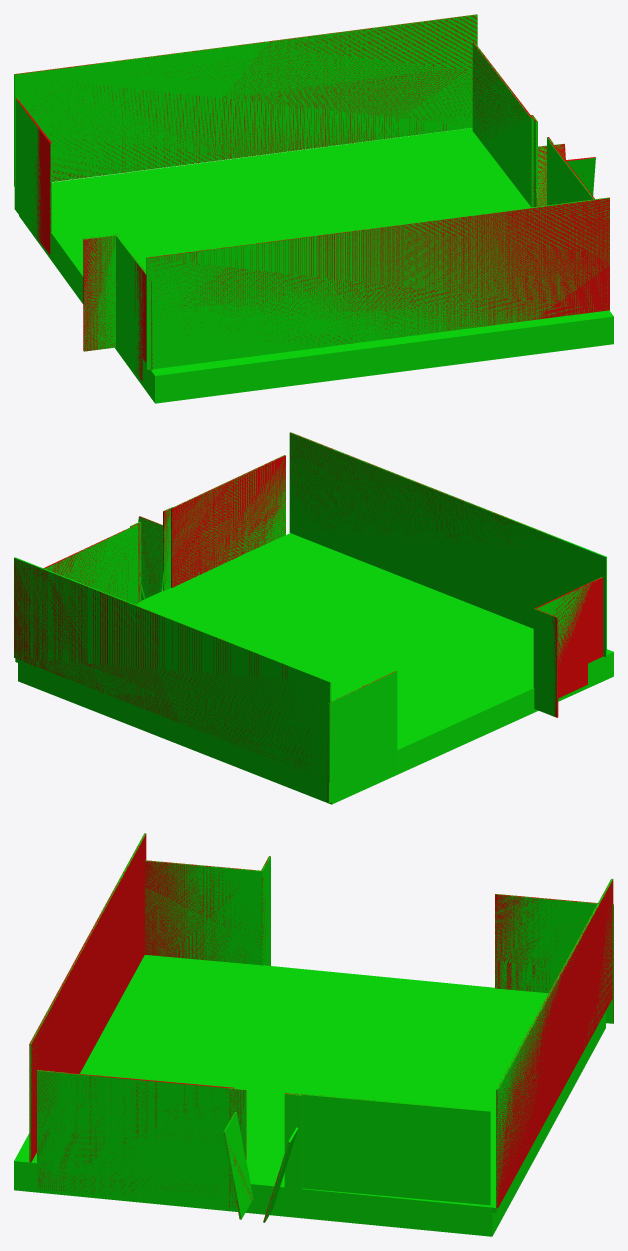
Rendered from InvisibleWall_001.fbx.
The picture shows the model from 3 angles, top to bottom: view 1: azimuth 30°, elevation 25°; view 2: azimuth 150°, elevation 25°; view 3: azimuth 270°, elevation 25°; orthographic projection. The views are drawn at different scales.
Visible parts, largest first — view 1: Designer104, invisibleWall_001_Phys, Designer76, Designer82, Designer84, Designer80, Designer81, Designer78, Designer83, Designer85, Designer86; view 2: Designer104, Designer76, invisibleWall_001_Phys, Designer82, Designer78, Designer83, Designer84, Designer80, Designer86, Designer81, Designer87; view 3: Designer104, invisibleWall_001_Phys, Designer83, Designer84, Designer81, Designer78, Designer76, Designer88, Designer86, Designer80, Designer87, Designer82 (+1 smaller).
Part boxes in pixels (bbox=[...]): Designer104: bbox=[19, 128, 613, 403]; invisibleWall_001_Phys: bbox=[14, 14, 609, 380]; Designer76: bbox=[14, 14, 477, 186]; Designer82: bbox=[146, 197, 609, 369]; Designer84: bbox=[472, 42, 533, 207]; Designer80: bbox=[84, 234, 118, 351]; Designer81: bbox=[116, 235, 152, 381]; Designer78: bbox=[14, 98, 51, 253]; Designer83: bbox=[549, 142, 609, 310]; Designer85: bbox=[536, 143, 565, 206]; Designer86: bbox=[566, 157, 595, 195]; Designer104: bbox=[15, 533, 613, 804]; Designer76: bbox=[14, 557, 331, 782]; invisibleWall_001_Phys: bbox=[14, 432, 603, 802]; Designer82: bbox=[289, 432, 606, 657]; Designer78: bbox=[327, 671, 397, 803]; Designer83: bbox=[171, 455, 285, 587]; Designer84: bbox=[45, 524, 138, 604]; Designer80: bbox=[533, 608, 557, 716]; Designer86: bbox=[138, 516, 163, 598]; Designer81: bbox=[537, 577, 602, 659]; Designer87: bbox=[163, 507, 173, 590]; Designer104: bbox=[14, 955, 610, 1236]; invisibleWall_001_Phys: bbox=[29, 833, 613, 1222]; Designer83: bbox=[37, 1070, 228, 1205]; Designer84: bbox=[293, 1093, 490, 1205]; Designer81: bbox=[145, 860, 261, 964]; Designer78: bbox=[495, 894, 613, 1023]; Designer76: bbox=[496, 878, 613, 1208]; Designer88: bbox=[284, 1094, 302, 1214]; Designer86: bbox=[223, 1112, 253, 1219]; Designer80: bbox=[260, 856, 270, 965]; Designer87: bbox=[228, 1088, 246, 1207]; Designer82: bbox=[29, 833, 145, 1162].
Size of the model in its own units: 5587 by 1489 by 5474.
